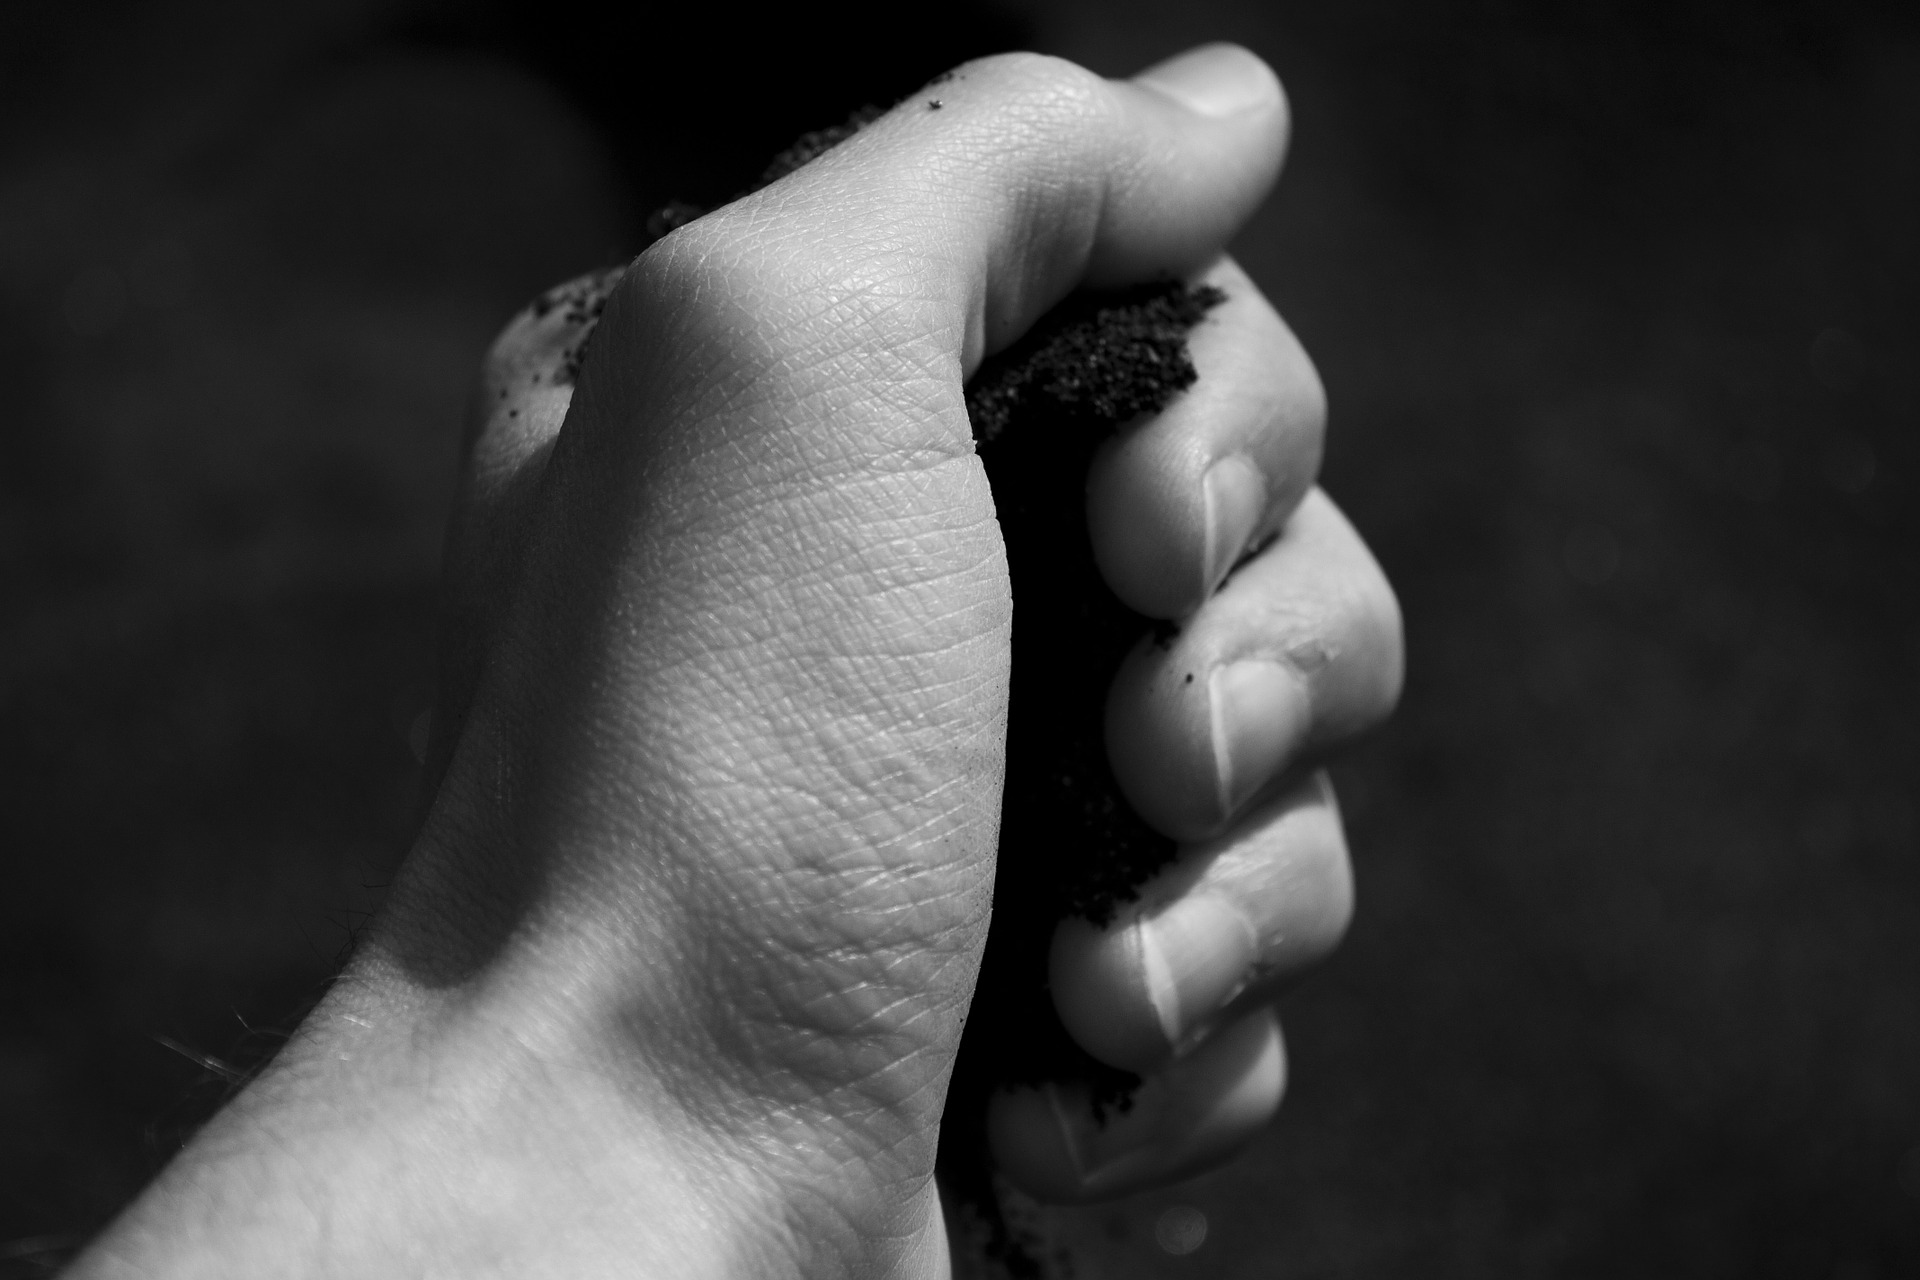fist: (539, 87, 1311, 1256)
